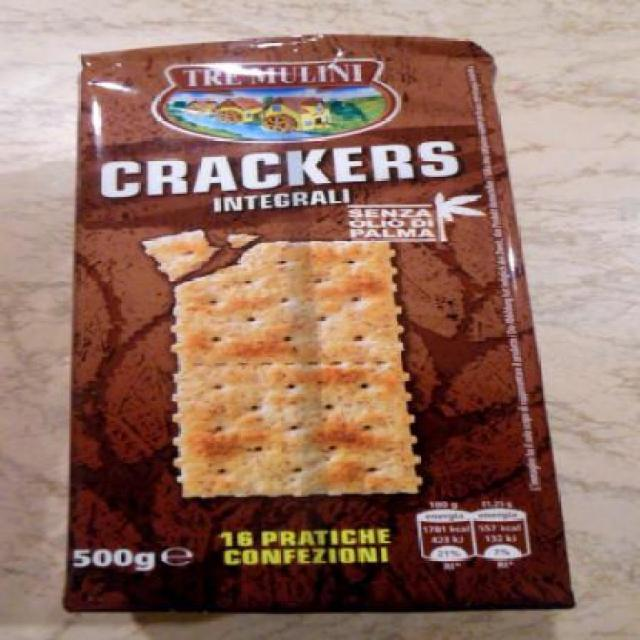Cracker: (43, 25, 605, 624)
